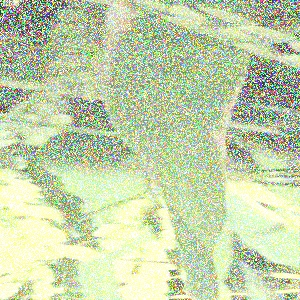Leaf_Blast: (162, 45, 244, 217)
